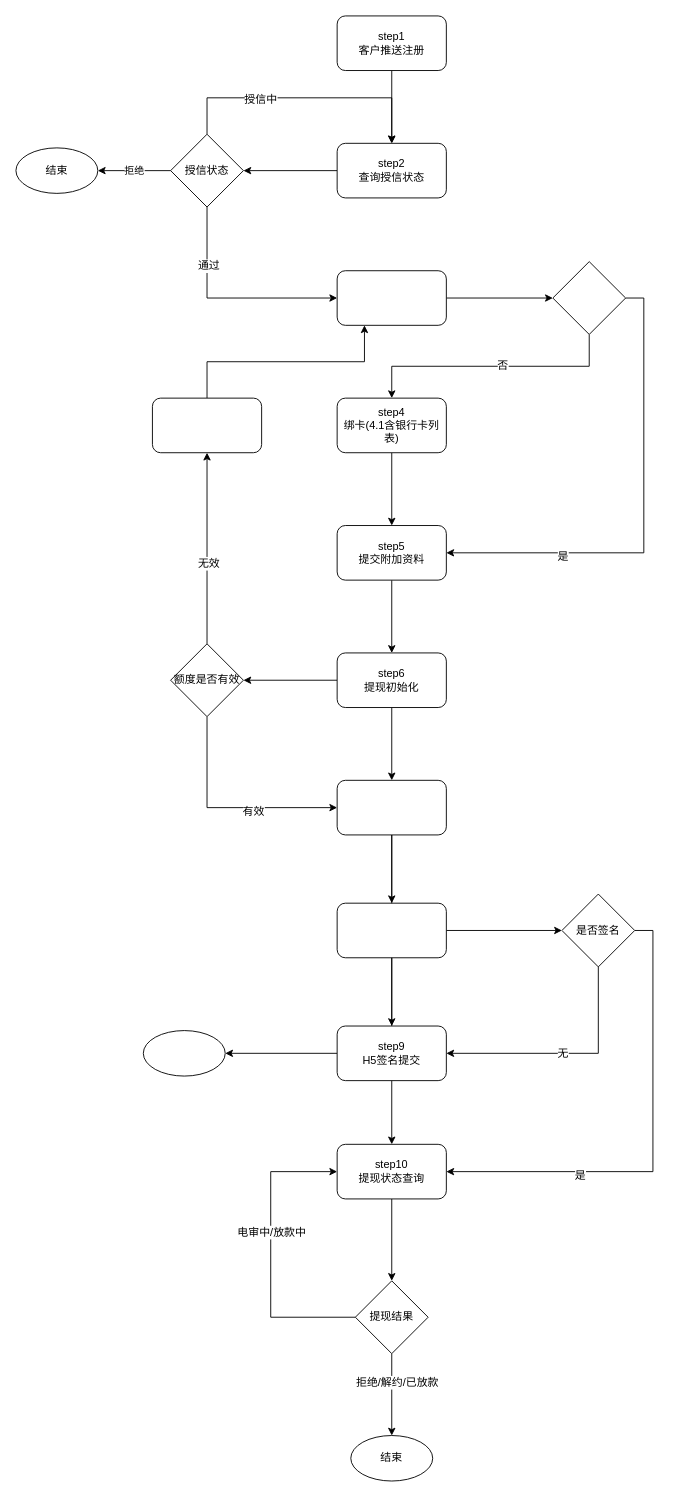
Image size: 676x1497. Some labels were removed from this diagram. The shapes that lost their labels are listed below. From the top down, each one's centre as x and y in pixels, then its label:
the point at 391,297: step3 提交授信资料
the point at 589,297: 是否绑卡
the point at 207,425: step11 重新授信
the point at 391,807: step7 提现申请
the point at 391,930: step8 H5初始化
the point at 183,1053: H5结束 (跳回渠道方)
